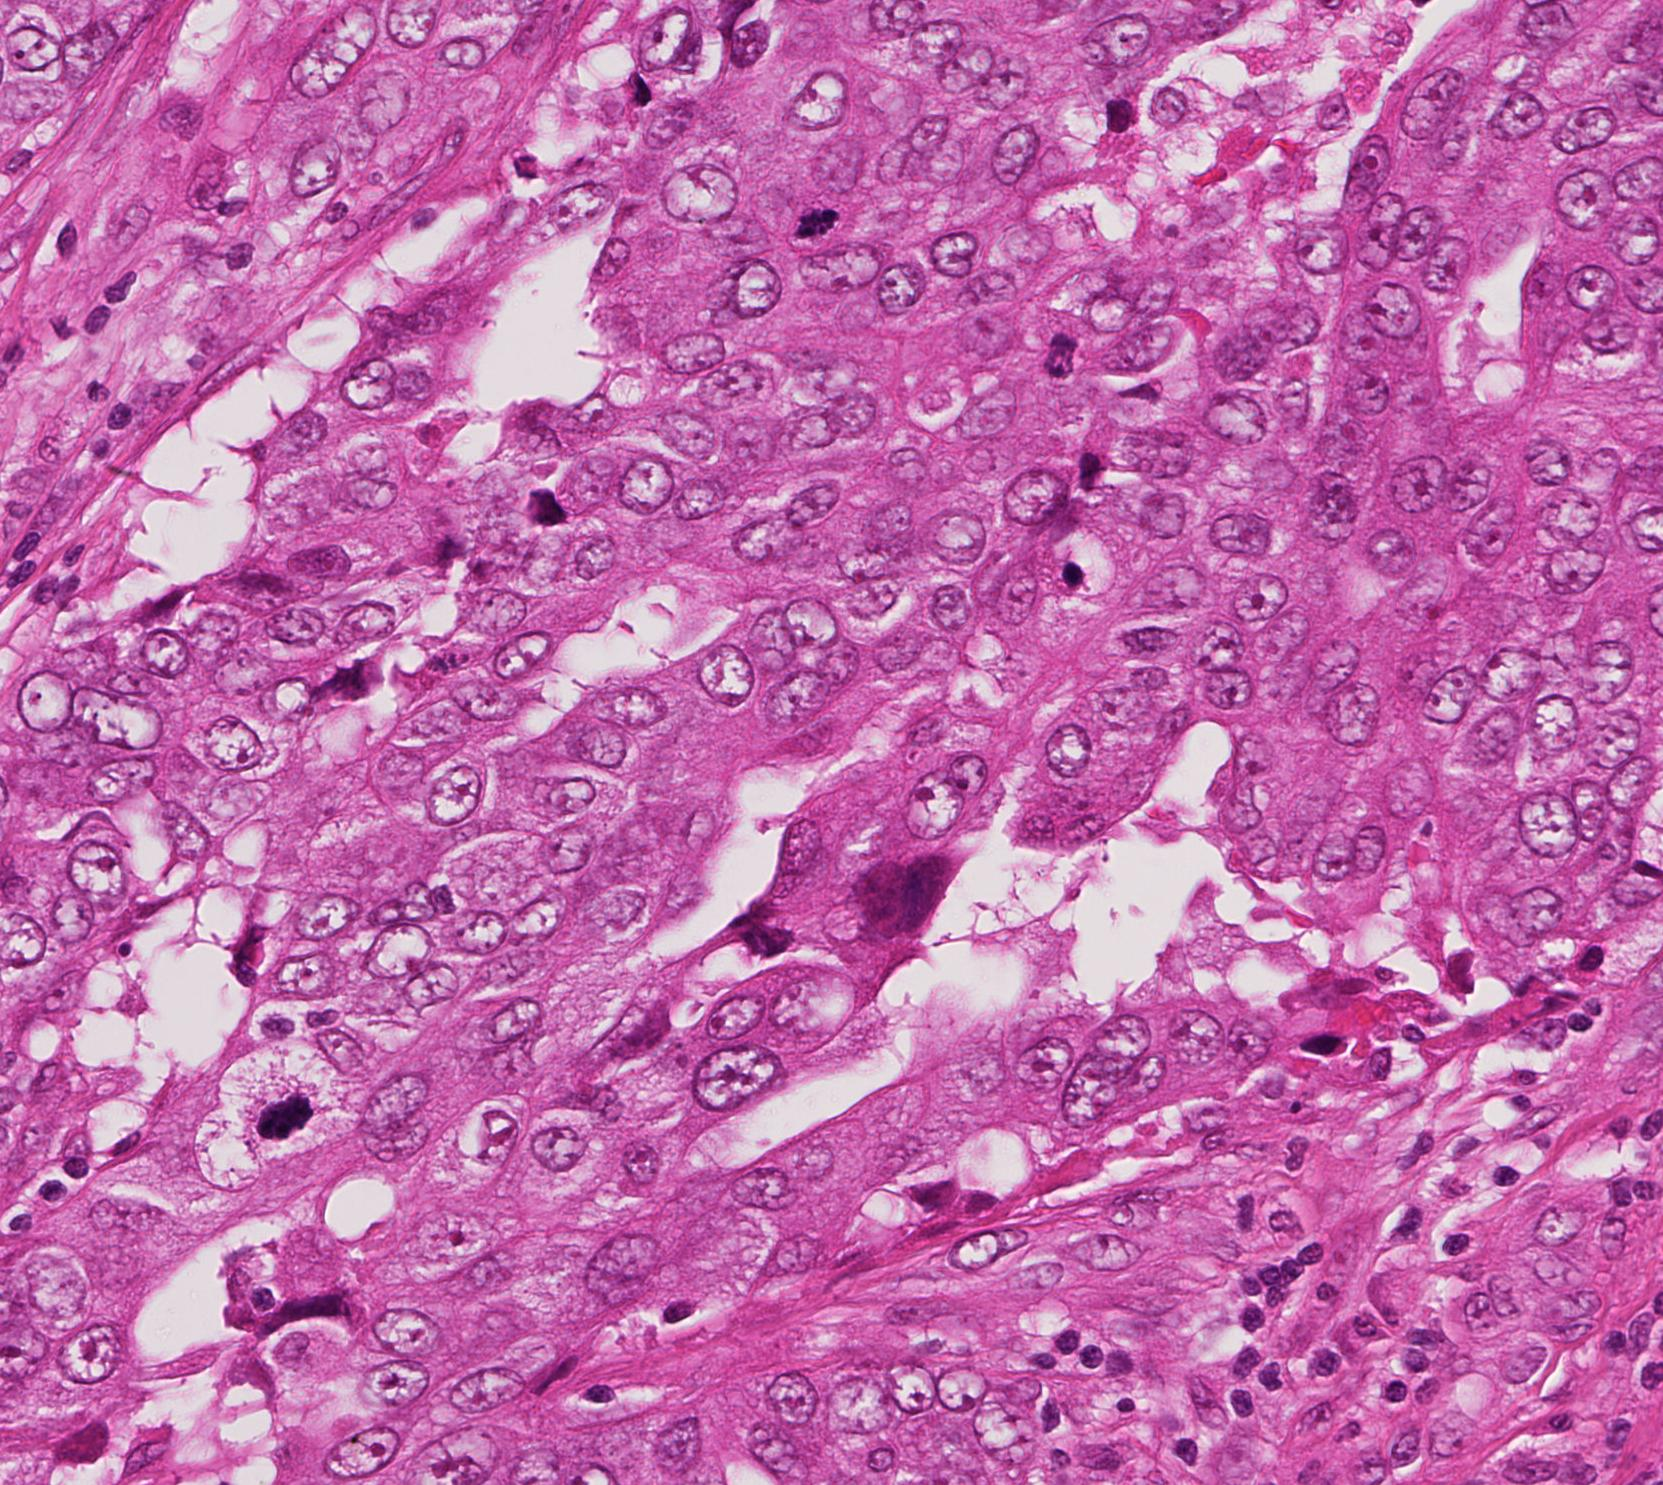mitosis: (778, 194, 839, 254), (1026, 305, 1087, 366)
